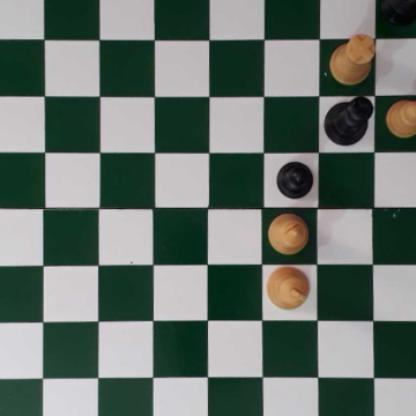black-king: (321, 96, 373, 144)
black-pawn: (276, 158, 313, 199)
black-rook: (379, 0, 416, 27)
white-bishop: (268, 211, 309, 254)
white-king: (263, 263, 311, 311)
white-pawn: (385, 97, 416, 139)
white-rook: (327, 31, 376, 84)
